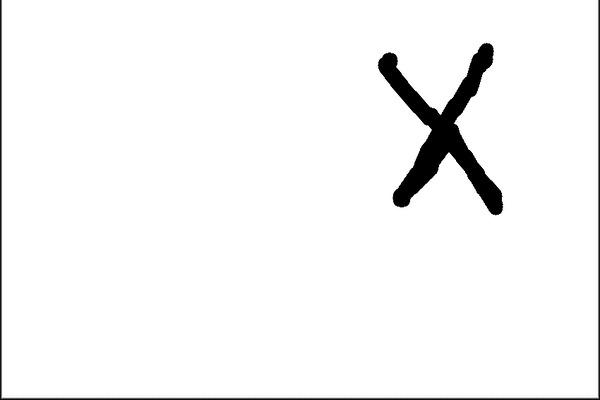X: (355, 29, 534, 219)
